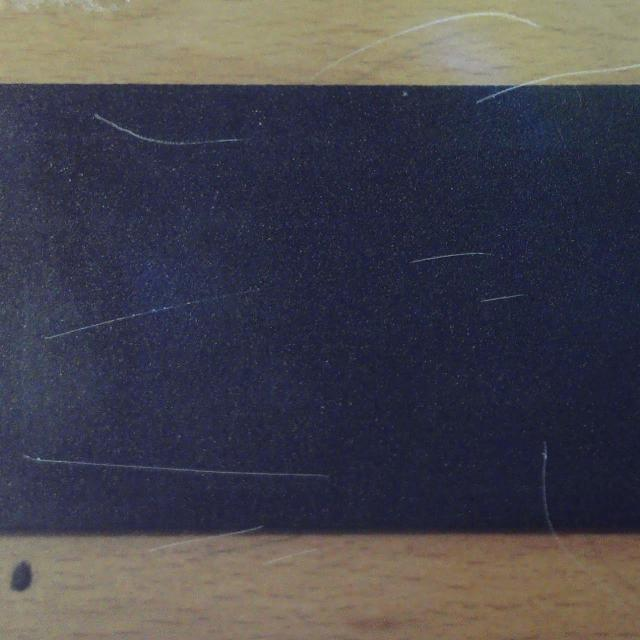defect: (44, 289, 258, 341), (25, 448, 335, 482), (97, 111, 245, 150), (537, 439, 559, 532), (474, 86, 523, 105), (414, 252, 495, 263), (481, 293, 529, 307), (227, 524, 267, 532)
